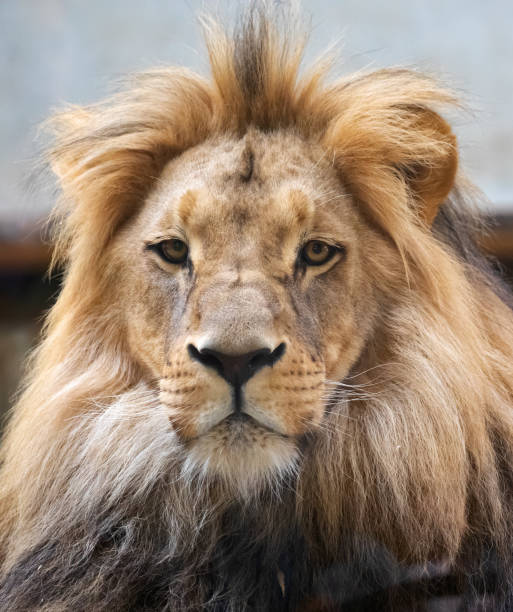lion: (4, 4, 513, 604)
